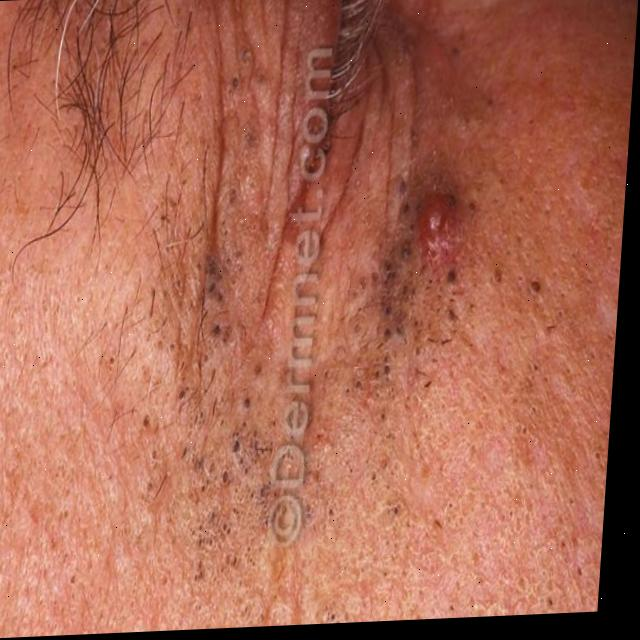Rosacea: (176, 153, 493, 561)
